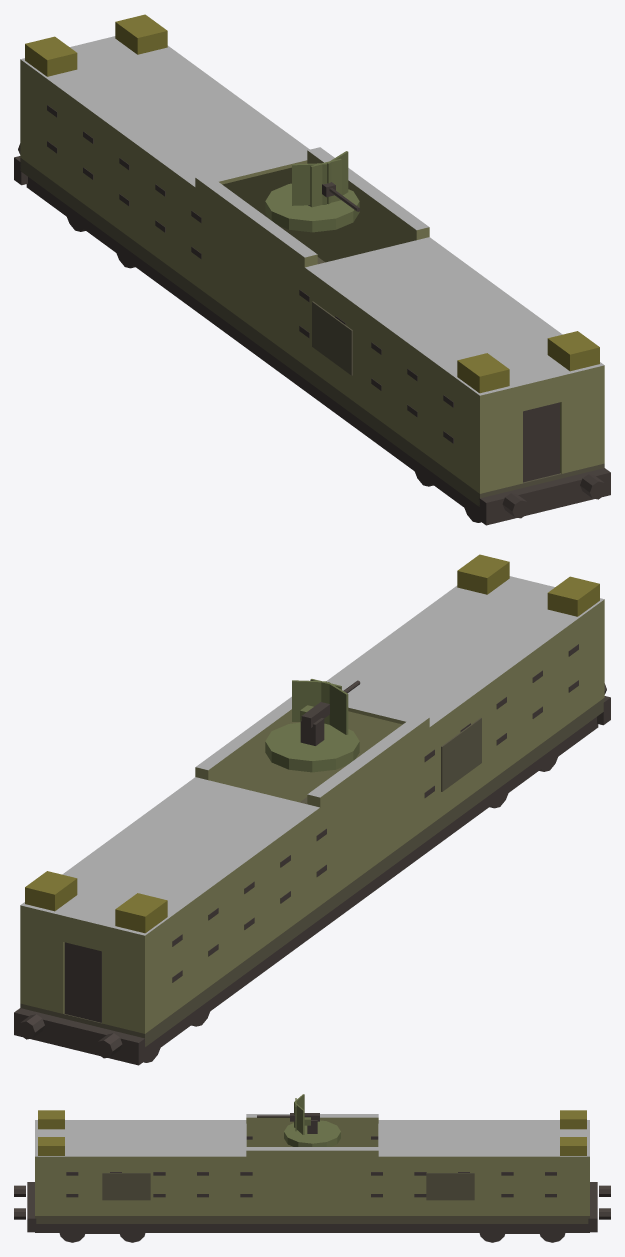
The model's file is SM_R3_VagonBlindado_v0_Chapa_LOD0.fbx.
The picture shows the model from 3 angles, top to bottom: view 1: azimuth 30°, elevation 25°; view 2: azimuth 150°, elevation 25°; view 3: azimuth 270°, elevation 25°; orthographic projection. The views are drawn at different scales.
Visible parts, largest first — view 1: SM_vagon_blindado_v0_LOD0, Torre; view 2: SM_vagon_blindado_v0_LOD0, Torre; view 3: SM_vagon_blindado_v0_LOD0, Torre.
Boxes of the visible parts, left/top/right/bottom form: SM_vagon_blindado_v0_LOD0: left=14, top=14, right=610, bottom=525; Torre: left=265, top=151, right=360, bottom=232; SM_vagon_blindado_v0_LOD0: left=14, top=554, right=610, bottom=1065; Torre: left=265, top=679, right=360, bottom=772; SM_vagon_blindado_v0_LOD0: left=14, top=1110, right=610, bottom=1242; Torre: left=257, top=1094, right=340, bottom=1146.
Bounding box in the file's own units: 3.03 × 4.75 × 19.9.
